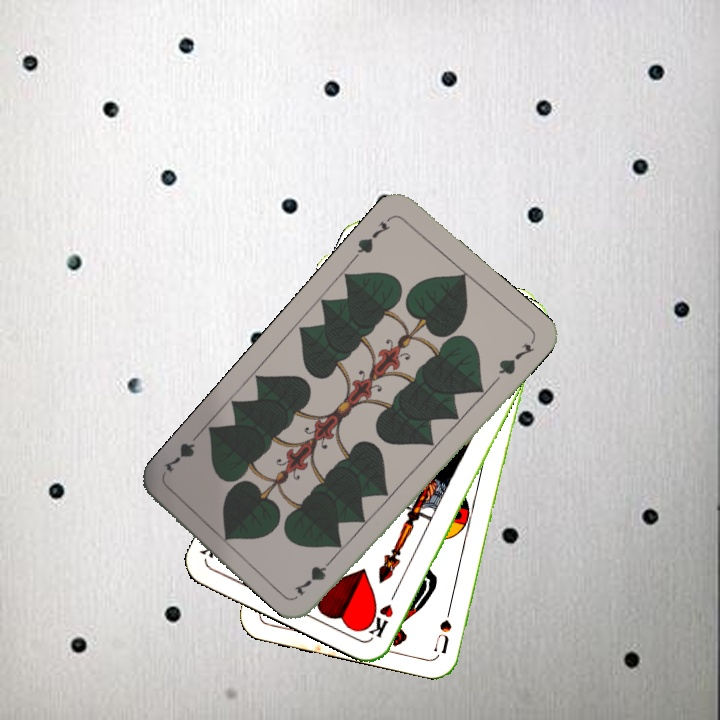G7: (293, 550, 340, 598), (350, 212, 395, 261)
HK: (364, 584, 401, 640)
SU: (429, 596, 456, 655)
